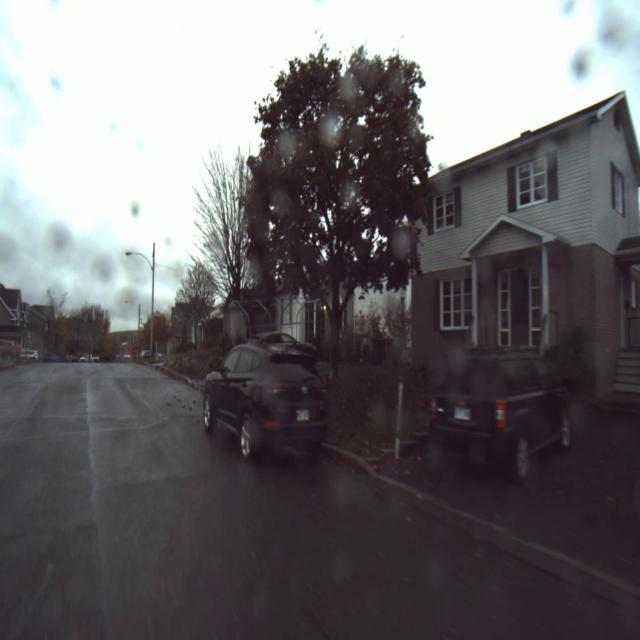car: (426, 344, 588, 477), (199, 333, 332, 469)
